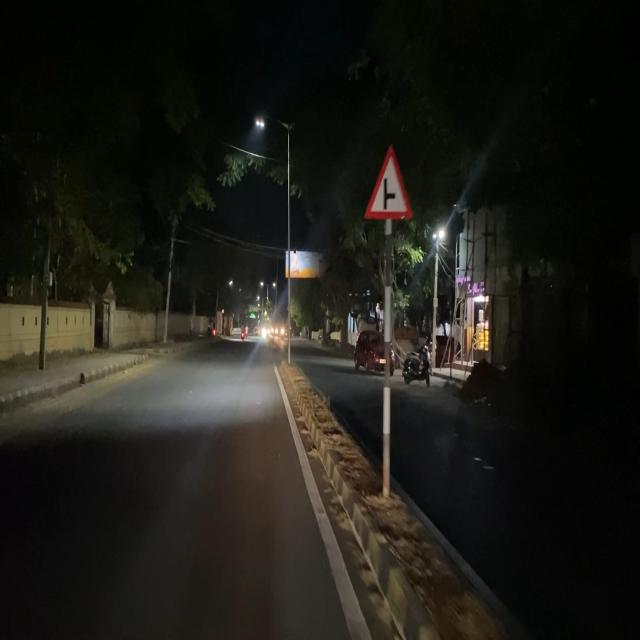bien_cam: (362, 140, 416, 224)
